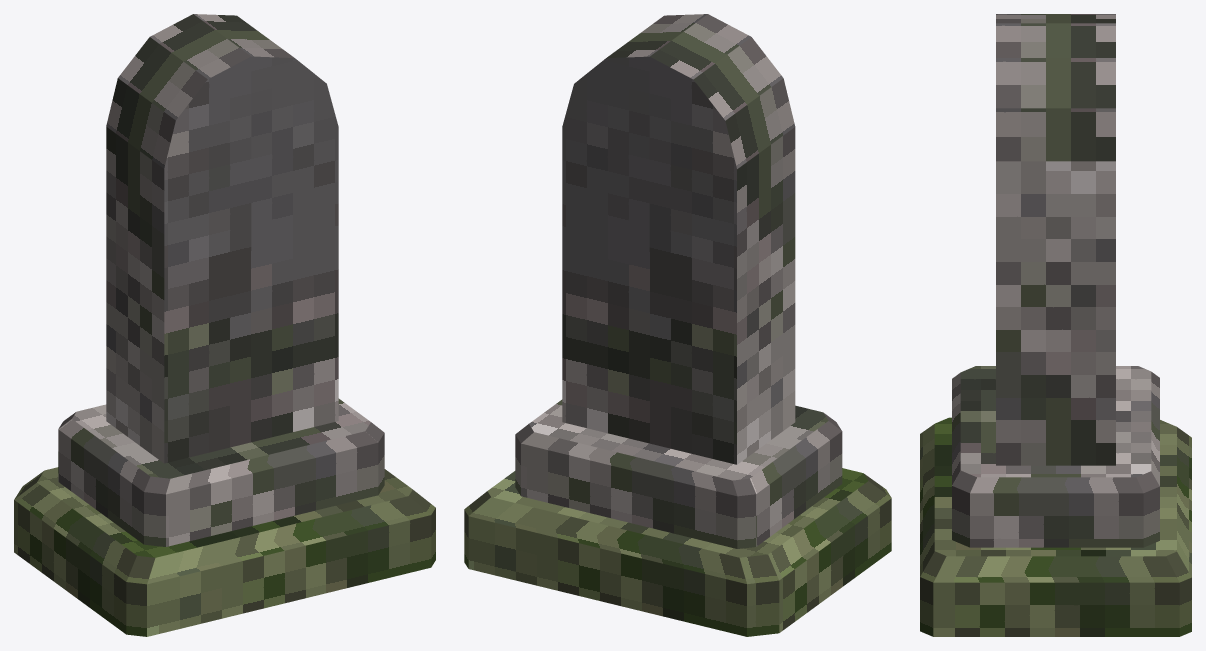
File: MemorialMarkerRoundedA.glb
3 views of the same model, side by side, from view 1: azimuth 30°, elevation 25°; view 2: azimuth 150°, elevation 25°; view 3: azimuth 270°, elevation 25° (orthographic). The views are drawn at different scales.
Visible parts, largest first — view 1: MemorialMarkerRoundedA; view 2: MemorialMarkerRoundedA; view 3: MemorialMarkerRoundedA.
Boxes of the visible parts, left/top/right/bottom form: MemorialMarkerRoundedA: left=14, top=14, right=435, bottom=636; MemorialMarkerRoundedA: left=464, top=14, right=891, bottom=636; MemorialMarkerRoundedA: left=920, top=14, right=1191, bottom=636.
Bounding box in the file's own units: 0.46 × 0.74 × 0.34.
Materials: 2 (2 with a texture image).
